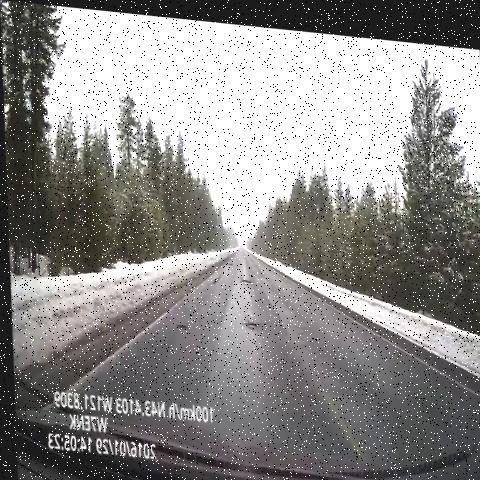pothole: (169, 310, 194, 335), (239, 312, 261, 334), (235, 270, 254, 291), (206, 263, 223, 286), (220, 252, 238, 267)
